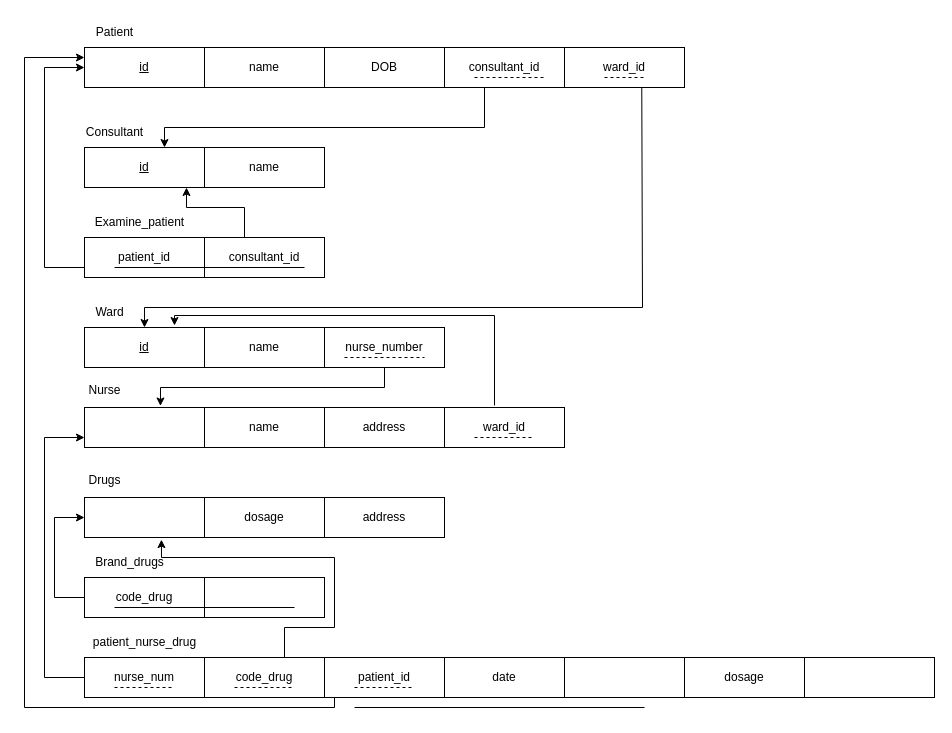
Image size: 952x733. Some labels were removed from this diagram. The centre of each missing label's shape, as x and y in pixels:
brands: (x=264, y=597)
code: (x=144, y=517)
number: (x=144, y=427)
time: (x=624, y=677)
